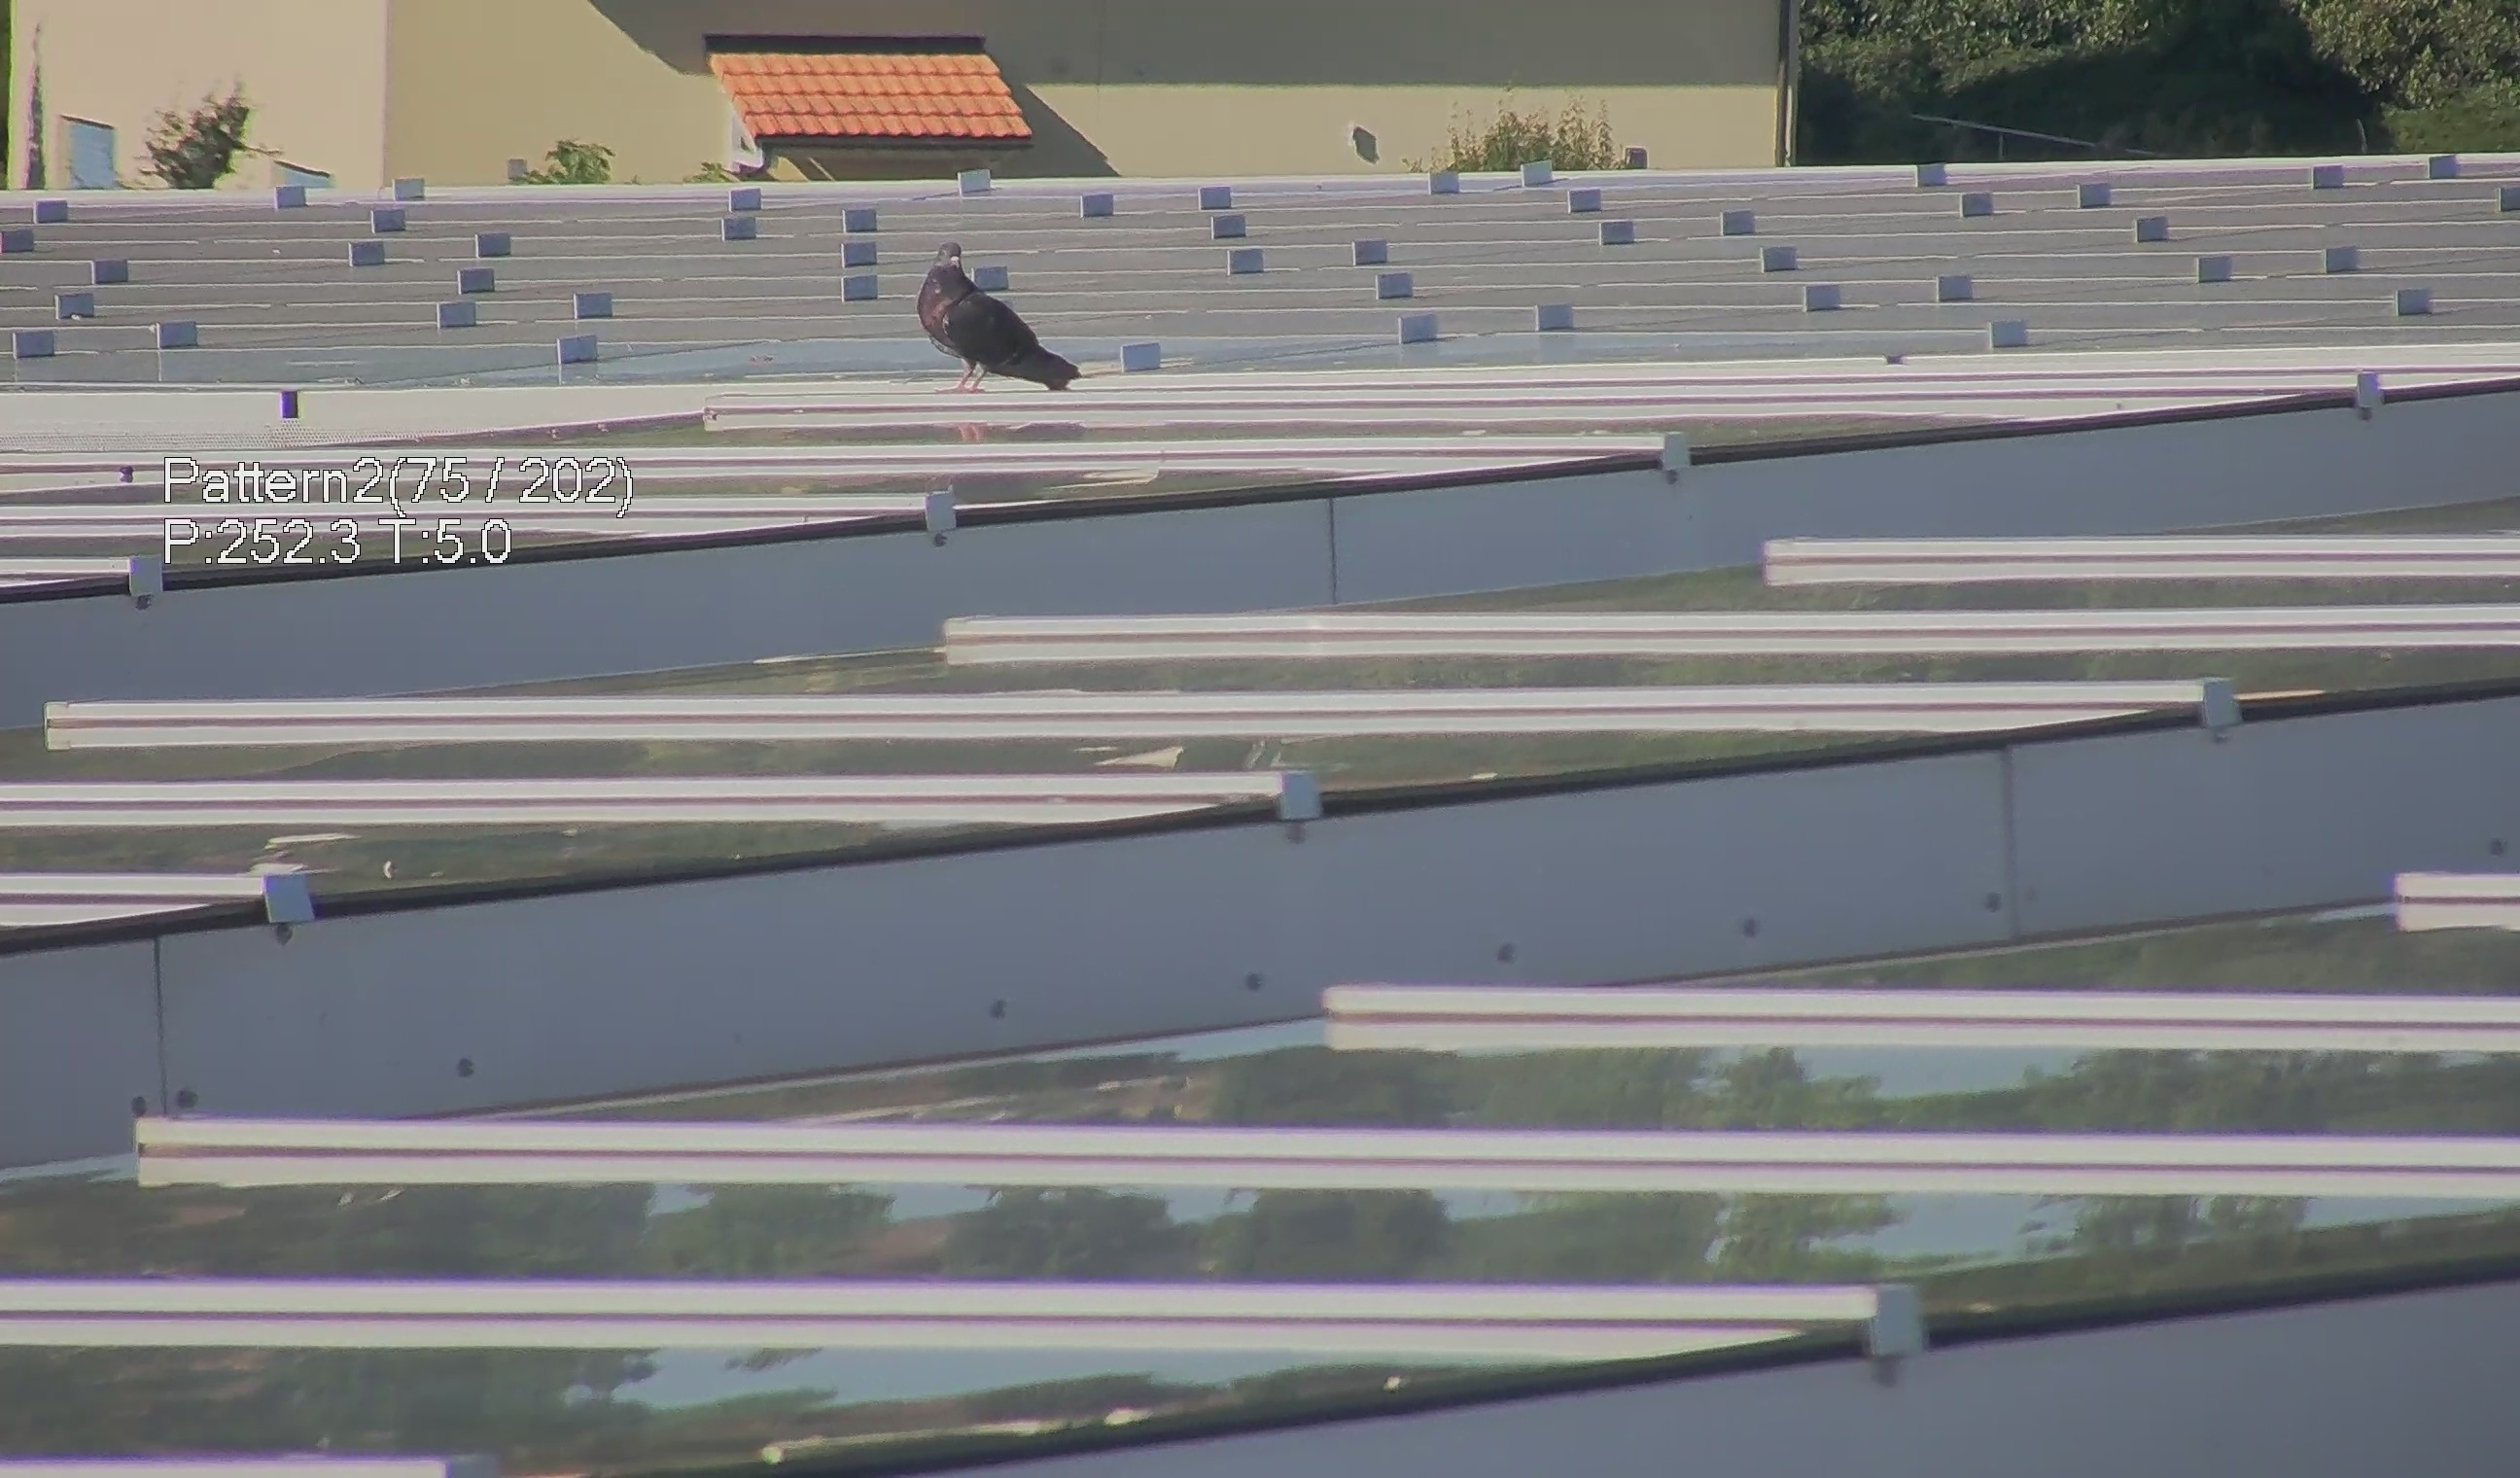Pigeon: (895, 234, 1080, 392)
